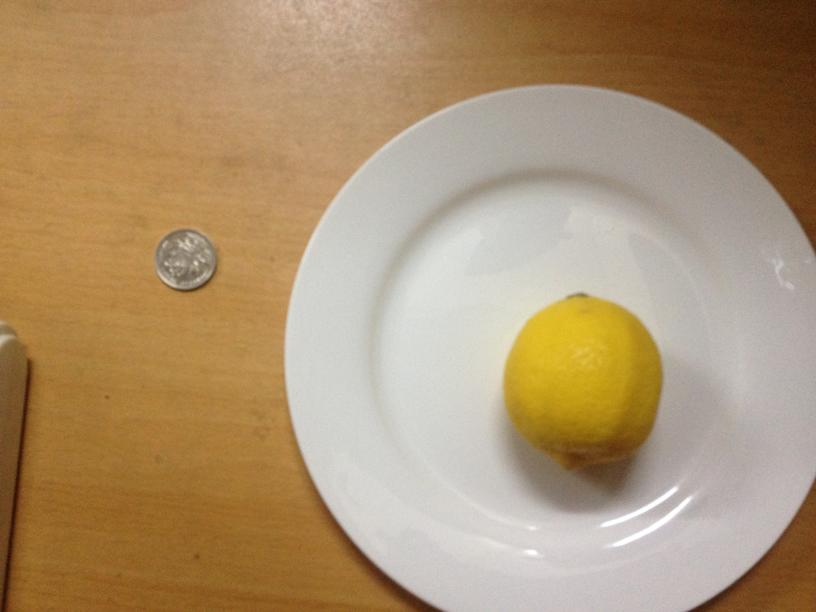coin: (155, 229, 213, 290)
lemon: (510, 292, 664, 466)
